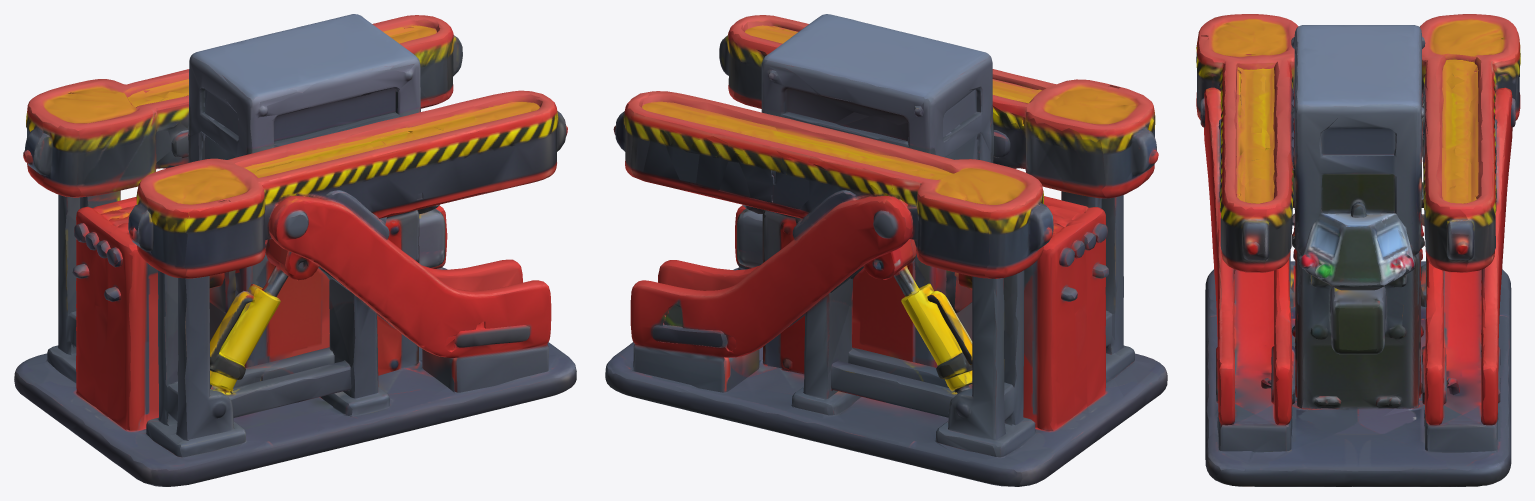
The model's file is recycle.glb.
3 views of the same model, side by side, from view 1: azimuth 30°, elevation 25°; view 2: azimuth 150°, elevation 25°; view 3: azimuth 270°, elevation 25° (orthographic).
Parts seen in each view (by area): view 1: geometry_0; view 2: geometry_0; view 3: geometry_0.
Part boxes in pixels (x1,y1,x2,y2): geometry_0: (14, 14, 576, 486); geometry_0: (605, 14, 1167, 486); geometry_0: (1196, 14, 1520, 486).
Bounding box in the file's own units: 1.2 × 0.8727 × 0.7842.
1 material, 1 textured.
